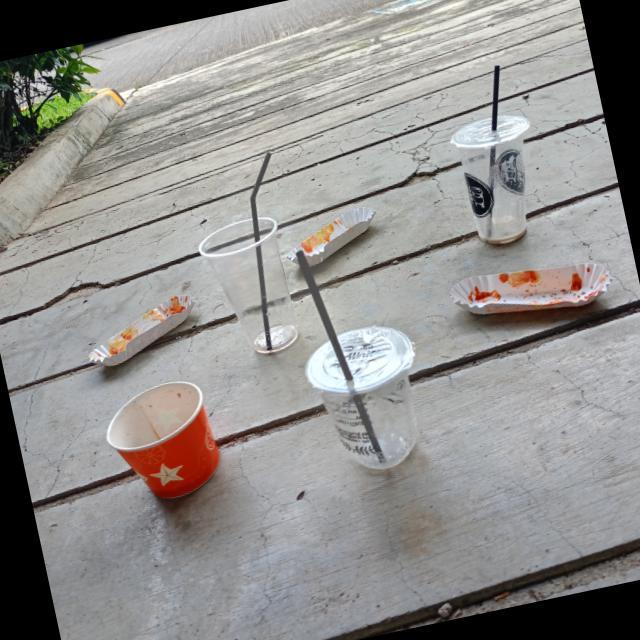recyclable waste: (290, 297, 448, 493), (181, 204, 327, 370), (92, 366, 239, 514), (438, 96, 564, 263), (442, 242, 618, 344), (71, 286, 212, 372), (272, 194, 399, 277)
